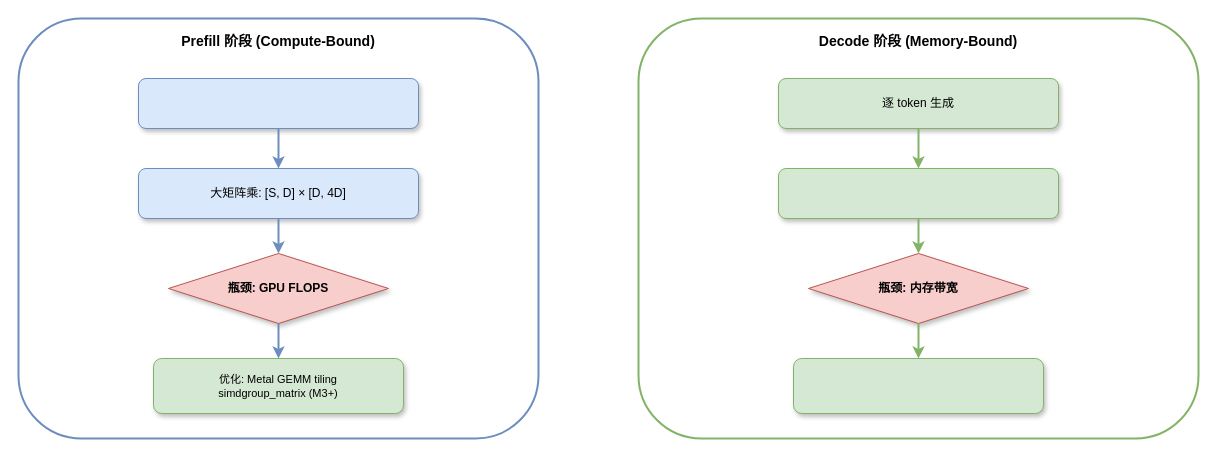
Image size: 1216x456. Some labels were removed from this diagram. Here are the shapes that lost their labels. From the top down, the centre of each, then its label:
[279,105]: 输入序列 [B, S] tokens
[919,195]: 矩阵向量乘: [1, D] × [D, 4D]
[919,387]: 优化: 量化 (4-bit) 权重流式加载 · kernel fusion
